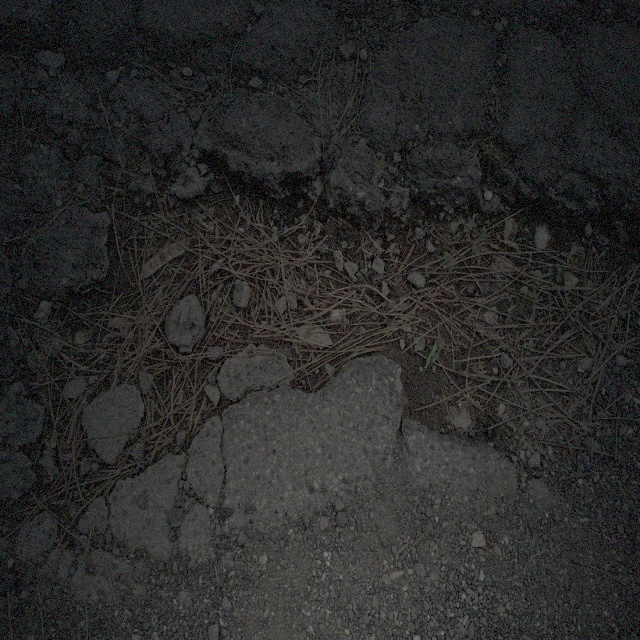pothole: (33, 139, 612, 527)
